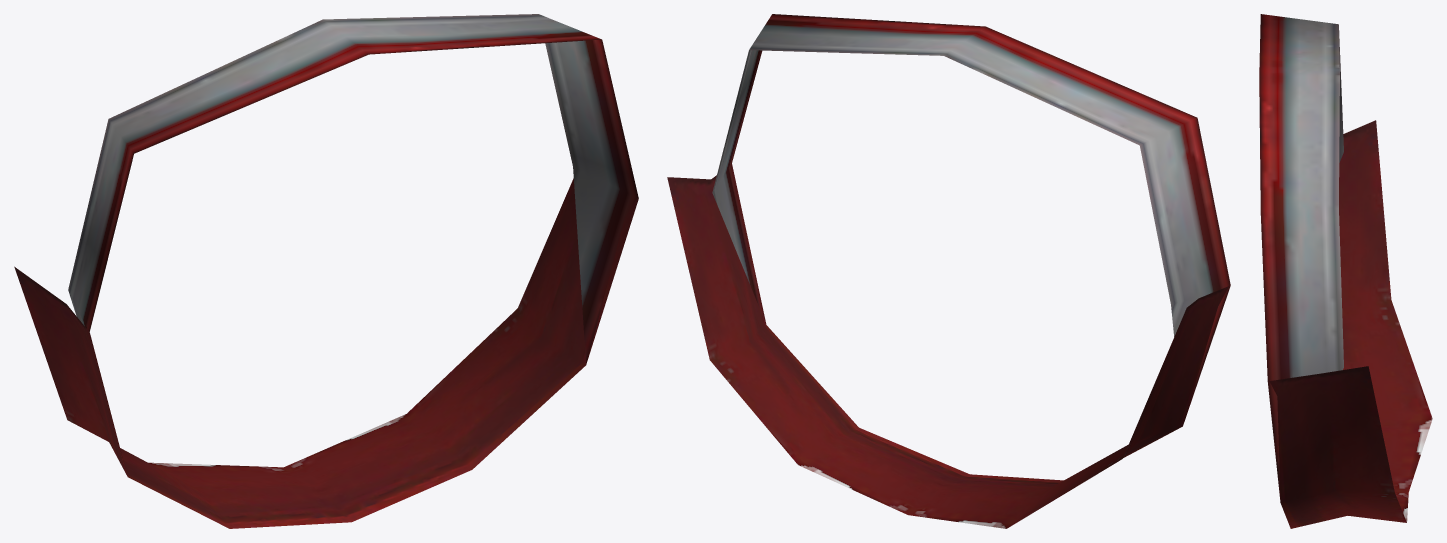
The model's file is Zombie_FatCook_H_Apron_273ea59c__Zombie_FatCook_Green_02_c1a59083_c1f257.obj.
3 renders of one model, left to right at view 1: azimuth 30°, elevation 25°; view 2: azimuth 150°, elevation 25°; view 3: azimuth 270°, elevation 25°, orthographic. The views are drawn at different scales.
Size of the model in its own units: 1.58 by 1.26 by 0.4709.
Materials: 1 (1 with a texture image).
